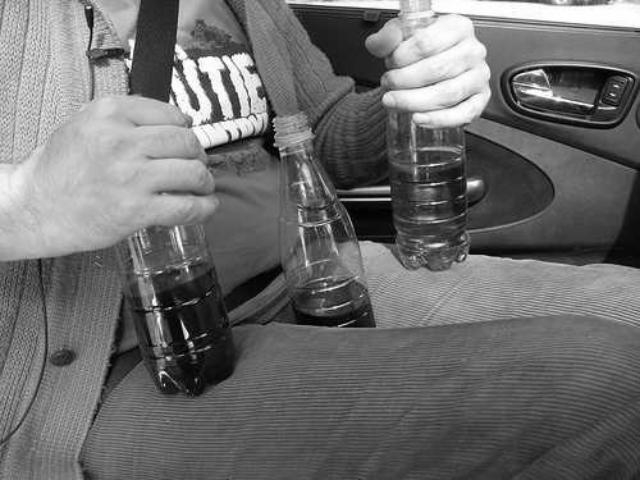Seatbelt: (122, 1, 184, 104)
